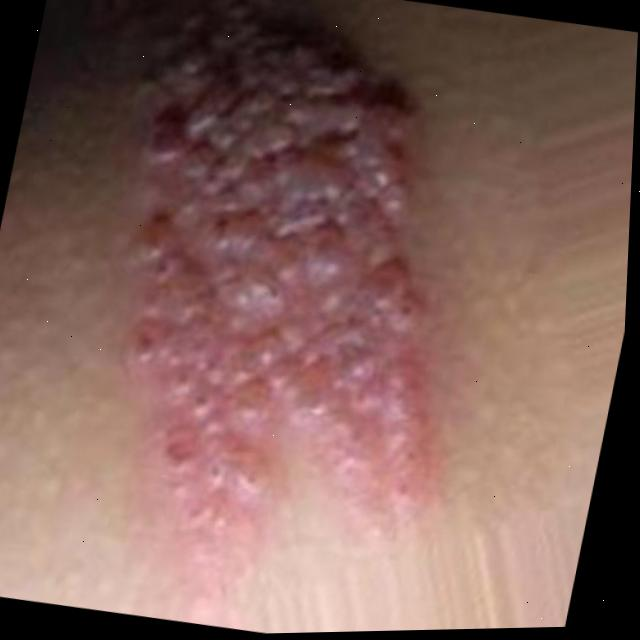Shingles: (49, 0, 504, 616)
